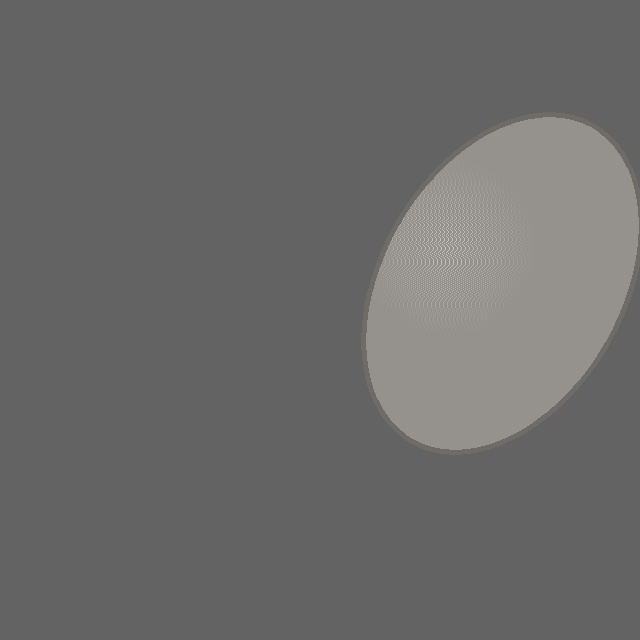lens: (364, 115, 640, 451)
